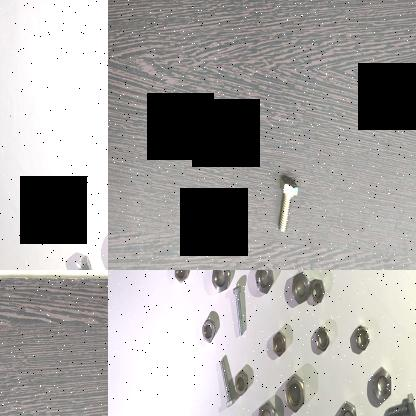Bolts: (274, 171, 298, 242), (216, 354, 238, 408), (384, 393, 416, 416), (232, 282, 245, 338)
NUTS: (283, 374, 307, 416), (370, 364, 394, 404), (289, 272, 311, 306), (69, 244, 97, 270), (353, 323, 370, 356), (200, 314, 218, 344), (314, 326, 332, 354), (271, 330, 289, 358), (255, 270, 275, 295), (310, 276, 326, 307), (337, 395, 359, 416), (211, 270, 231, 292), (257, 396, 277, 416), (233, 366, 247, 394), (171, 270, 191, 284)
